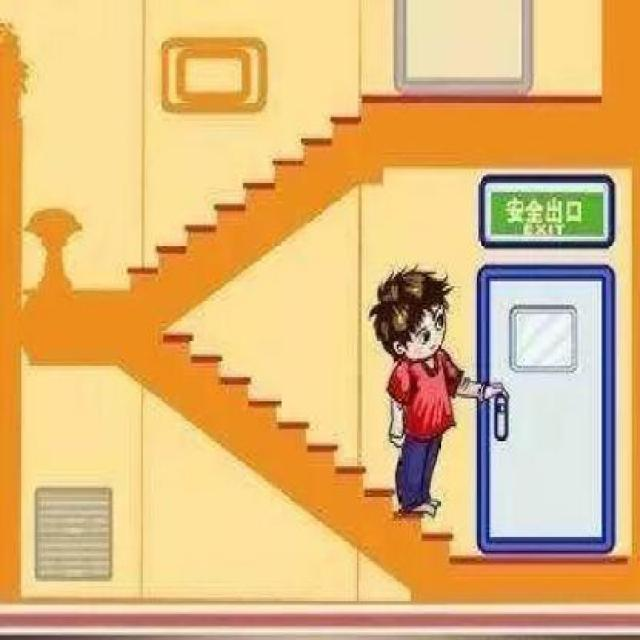exit_sign: (480, 168, 613, 242)
